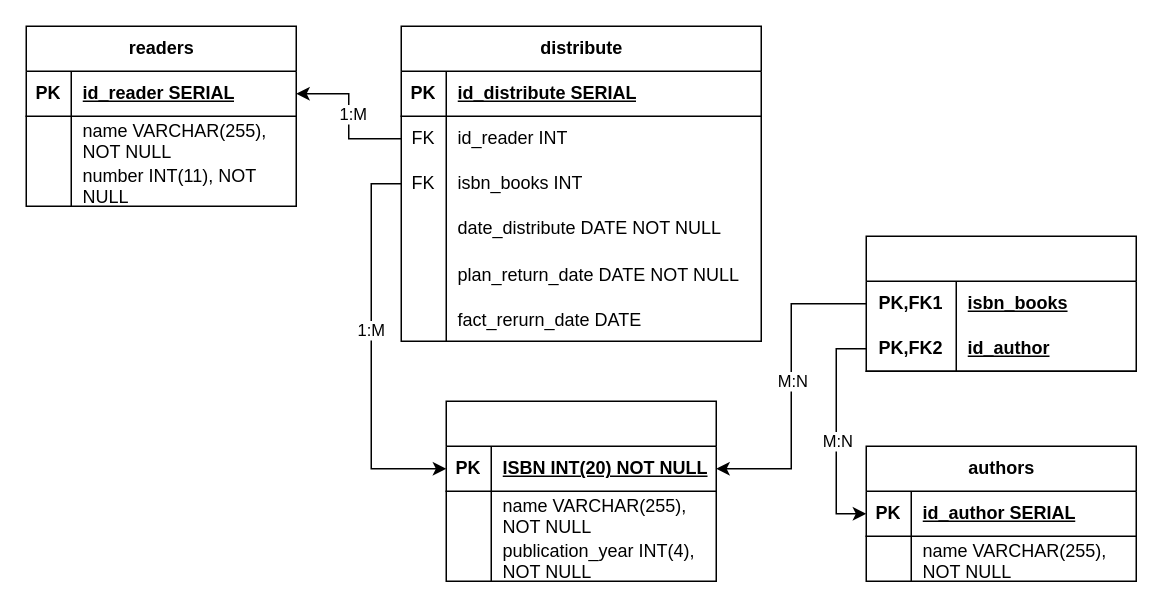
Some shapes in this 1163 by 608 pixel diagram are drawn without their labels. Each missing label, with the box of its shape:
authorship: (865, 235, 1136, 371)
books: (445, 400, 716, 581)
